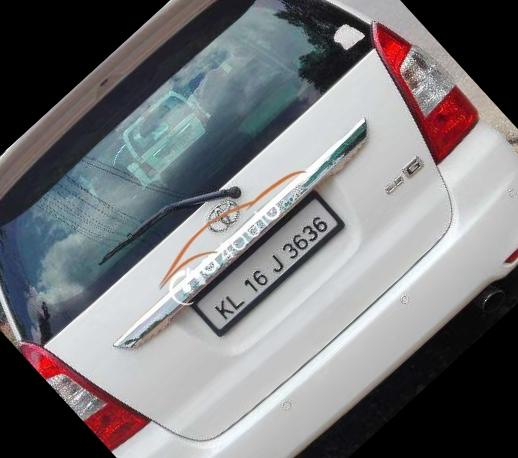plate: (180, 172, 364, 350)
